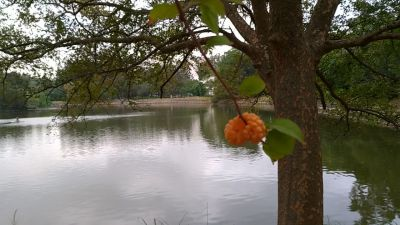eggs: (223, 111, 268, 150)
